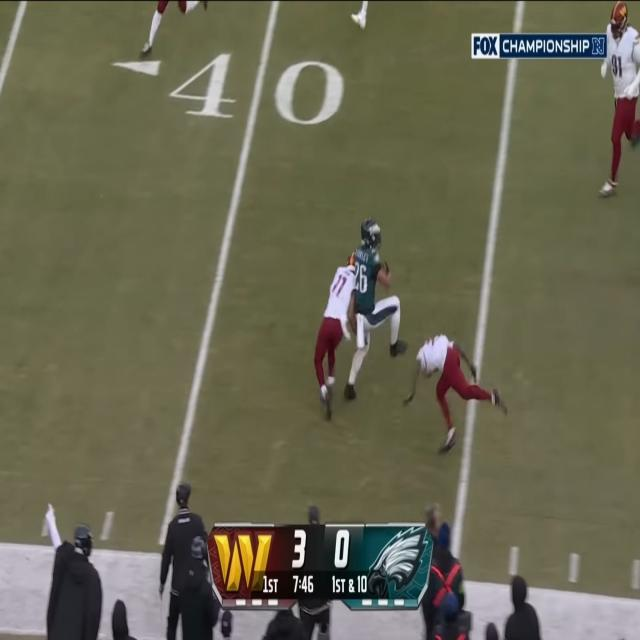Ball: (379, 258, 389, 276)
